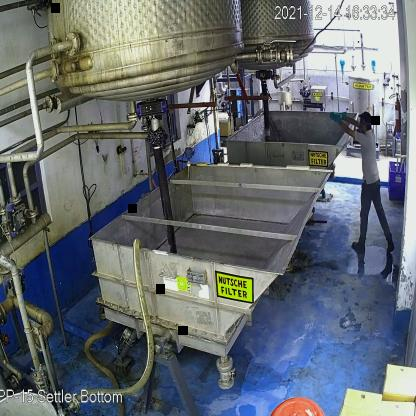shoes: (349, 231, 370, 254), (381, 230, 396, 257)
